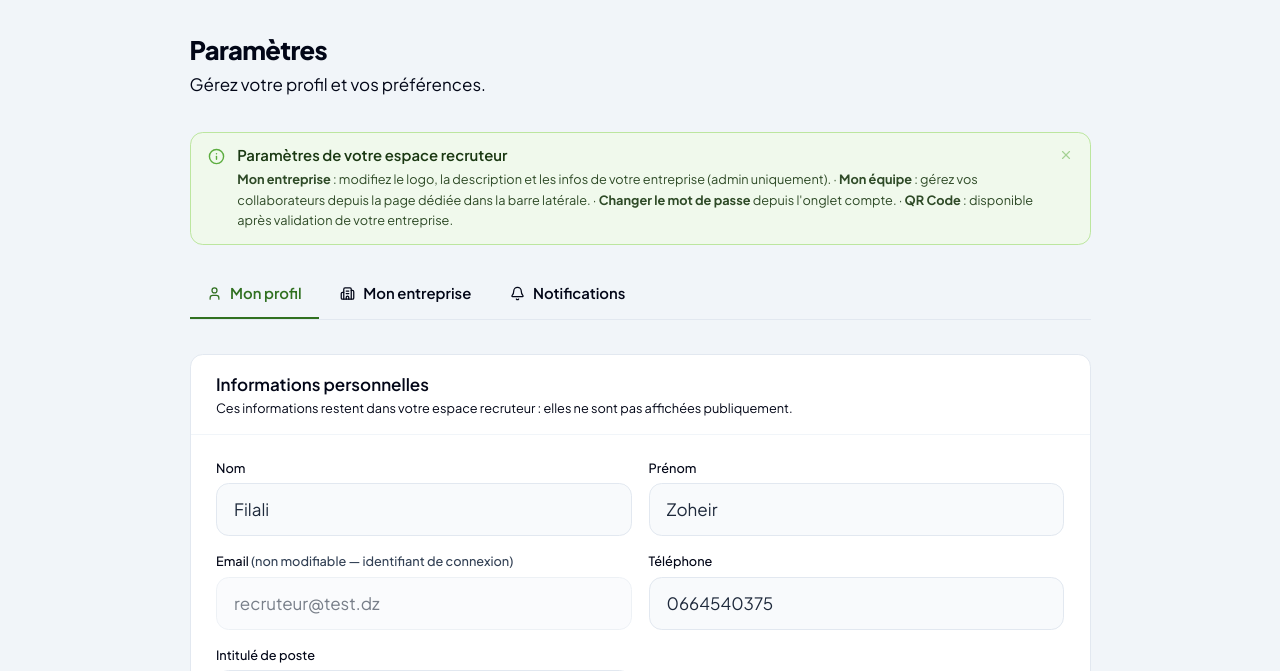
Test case: ⚙️ UI & Logique - Composant <ParametresRecruteur /> › 🟢 HP4 : Navigation vers onglet notifications
Click the button "Notifications": {"x": 567, "y": 295} [492, 270, 642, 319]
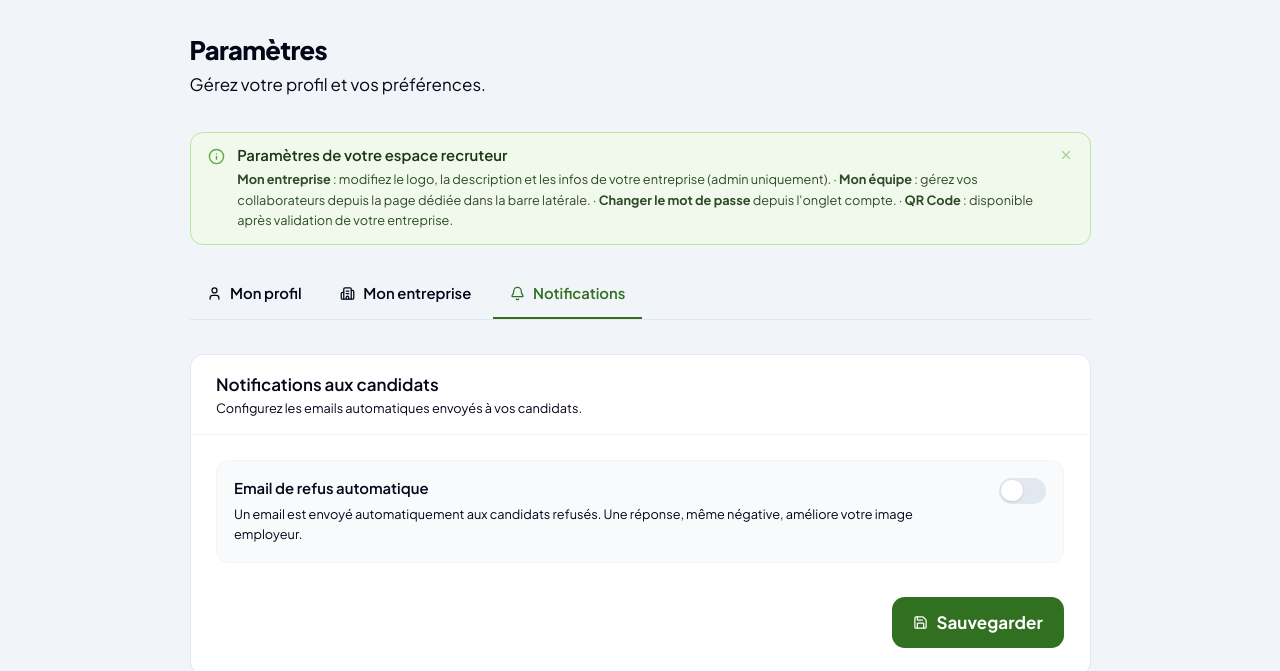
Expected: the text "Email de refus automatique" is shown, [234, 479, 428, 497]
